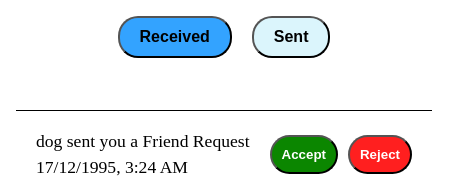
Scenario: User Requests › Renders Normal Page Properly
Expected: the button "Accept" is shown, [270,135,338,174]
Expected: the button "Reject" is shown, [348,135,412,174]
Click the button "Sent": (291, 37) [252,16,330,58]
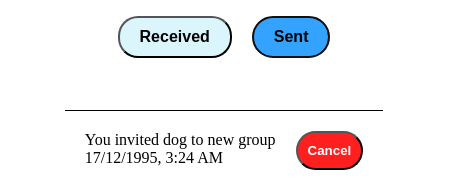
Expected: the button "Cancel" is shown, [296,131,363,170]
Expected: the text "You invited dog to new group" is shown, [85,131,276,149]
